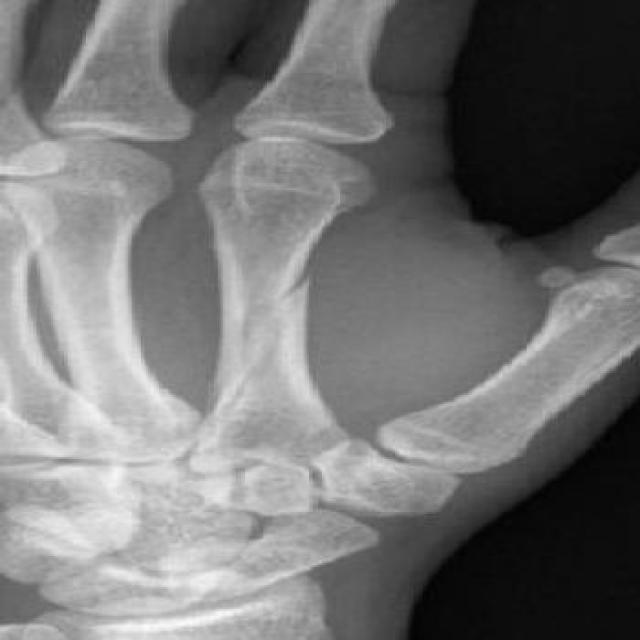Fracture: (241, 264, 330, 328)
